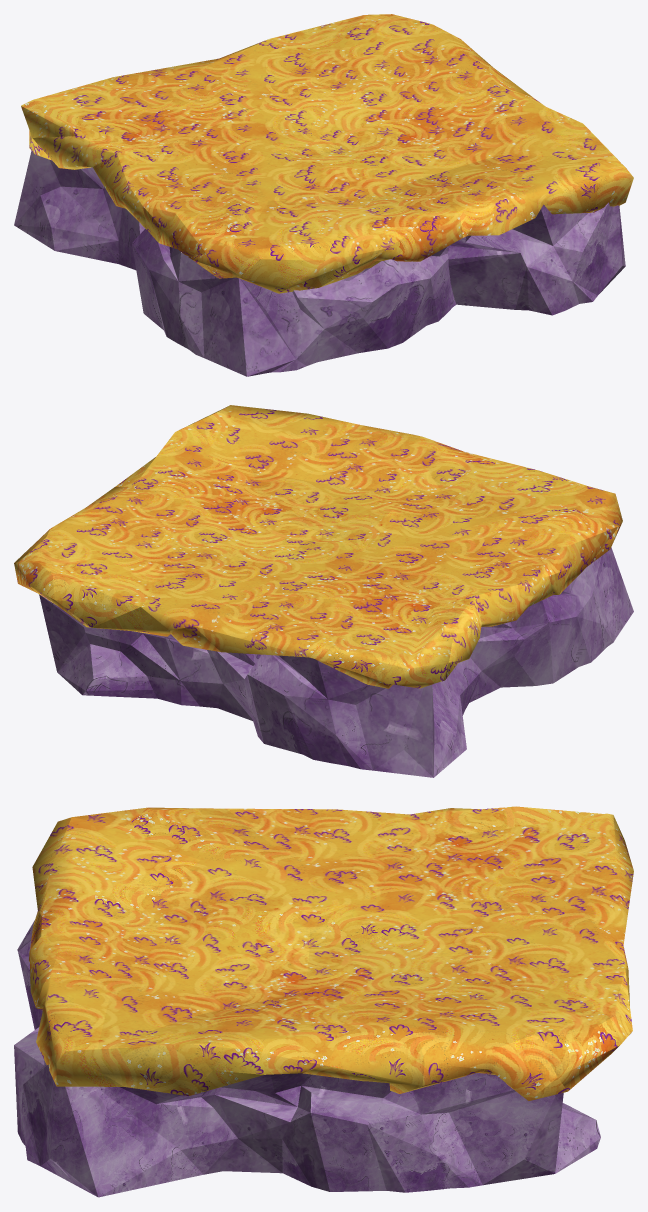
Rendered from Floating_Island_3_Art.glb.
The picture shows the model from 3 angles, top to bottom: view 1: azimuth 30°, elevation 25°; view 2: azimuth 150°, elevation 25°; view 3: azimuth 270°, elevation 25°; orthographic projection. The views are drawn at different scales.
Visible parts, largest first — view 1: Floating_Island_3_Art; view 2: Floating_Island_3_Art; view 3: Floating_Island_3_Art.
Boxes of the visible parts, bbox=[...] form: Floating_Island_3_Art: bbox=[14, 14, 633, 376]; Floating_Island_3_Art: bbox=[14, 405, 633, 777]; Floating_Island_3_Art: bbox=[14, 806, 633, 1197].
Size of what is drawn, in the model's own units: 15.52 by 4.29 by 15.73.
Materials: 2 (2 with a texture image).
